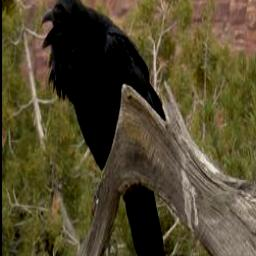Crow: (39, 0, 166, 256)
